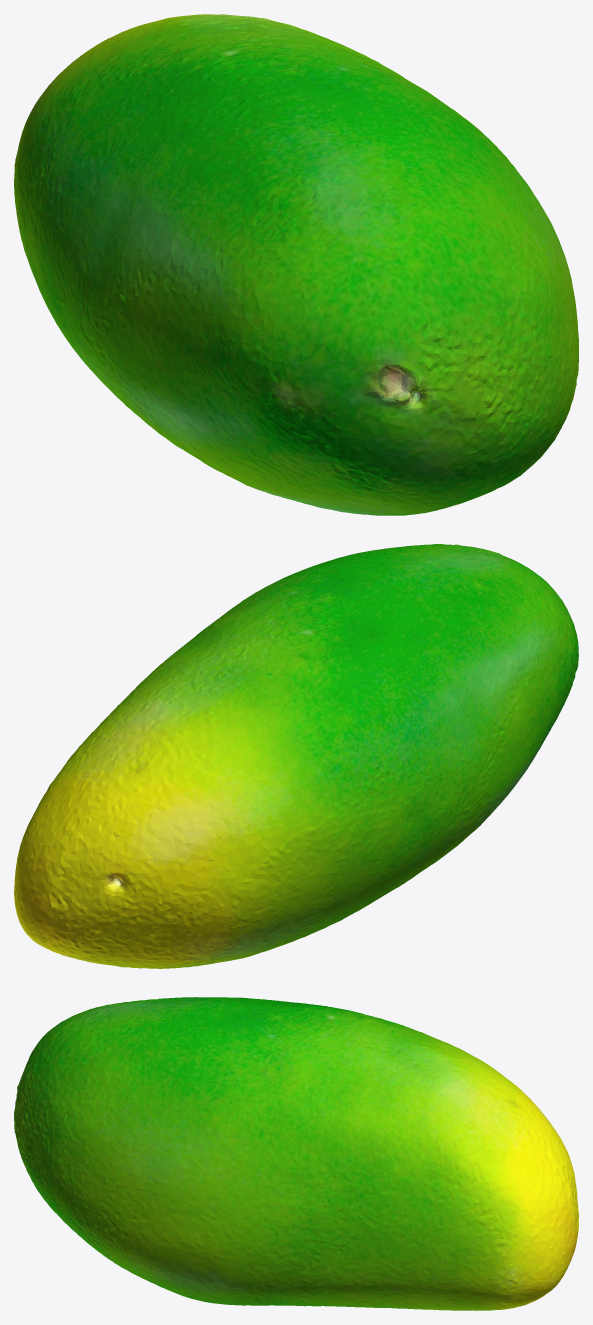
Rendered from mango.obj.
The picture shows the model from 3 angles, top to bottom: view 1: azimuth 30°, elevation 25°; view 2: azimuth 150°, elevation 25°; view 3: azimuth 270°, elevation 25°; orthographic projection. The views are drawn at different scales.
Parts seen in each view (by area): view 1: mango; view 2: mango; view 3: mango.
Boxes of the visible parts, x1,y1,x2,y2 form: mango: (14, 14, 578, 515); mango: (14, 544, 578, 968); mango: (14, 997, 578, 1310).
Bounding box in the file's own units: 0.0662 × 0.0609 × 0.1172.
